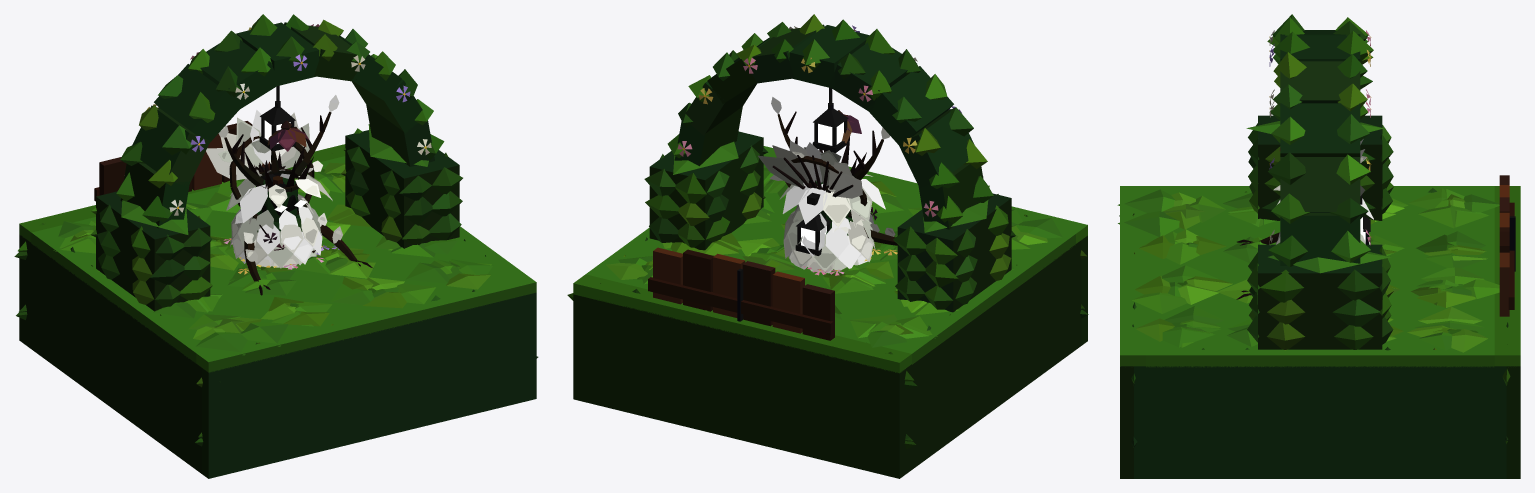
Rendered from wisp_maze_kit.glb.
3 views of the same model, side by side, from view 1: azimuth 30°, elevation 25°; view 2: azimuth 150°, elevation 25°; view 3: azimuth 270°, elevation 25° (orthographic). The views are drawn at different scales.
Visible parts, largest first — view 1: Kit_HedgeGate, Kit_HedgeCross, Kit_HedgeEnd, Kit_HedgeTee, Kit_Spirit, Kit_HedgeCorner, Kit_HedgePost, Kit_Crest4, Kit_Crest0, Kit_HedgeStraight, Kit_Crest1, Kit_Crest2 (+1 smaller); view 2: Kit_HedgeGate, Kit_HedgeCross, Kit_HedgeEnd, Kit_HedgeTee, Kit_Spirit, Kit_Crest4, Kit_HedgePost, Kit_HedgeCorner, Kit_LanternPost, Kit_Crest0, Kit_HedgeStraight; view 3: Kit_HedgeStraight, Kit_HedgeGate, Kit_HedgeTee, Kit_HedgeCross, Kit_HedgeCorner, Kit_HedgePost, Kit_HedgeEnd, Kit_Spirit.
Boxes of the visible parts, box(x1,y1,x2,y2) form: Kit_HedgeGate: box(14, 14, 538, 438); Kit_HedgeCross: box(19, 144, 536, 478); Kit_HedgeEnd: box(16, 171, 452, 473); Kit_HedgeTee: box(20, 156, 536, 478); Kit_Spirit: box(226, 169, 372, 295); Kit_HedgeCorner: box(70, 175, 492, 382); Kit_HedgePost: box(89, 178, 485, 331); Kit_Crest4: box(206, 110, 309, 180); Kit_Crest0: box(218, 95, 339, 186); Kit_HedgeStraight: box(18, 174, 474, 446); Kit_Crest1: box(251, 120, 308, 172); Kit_Crest2: box(218, 136, 322, 223); Kit_HedgeGate: box(567, 14, 1086, 389); Kit_HedgeCross: box(573, 179, 1047, 478); Kit_HedgeEnd: box(623, 180, 1084, 473); Kit_HedgeTee: box(586, 146, 1087, 439); Kit_Spirit: box(779, 174, 897, 273); Kit_Crest4: box(758, 140, 862, 198); Kit_HedgePost: box(717, 184, 1017, 338); Kit_HedgeCorner: box(645, 167, 1022, 333); Kit_LanternPost: box(795, 192, 831, 255); Kit_Crest0: box(771, 97, 889, 180); Kit_HedgeStraight: box(632, 180, 1088, 441); Kit_HedgeStraight: box(1131, 197, 1508, 478); Kit_HedgeGate: box(1131, 14, 1515, 446); Kit_HedgeTee: box(1117, 186, 1507, 443); Kit_HedgeCross: box(1139, 186, 1520, 478); Kit_HedgeCorner: box(1118, 188, 1487, 478); Kit_HedgePost: box(1164, 191, 1488, 349); Kit_HedgeEnd: box(1132, 189, 1486, 350); Kit_Spirit: box(1236, 185, 1373, 299).
Bounding box in the file's own units: 4.3 × 4.01 × 4.03.
